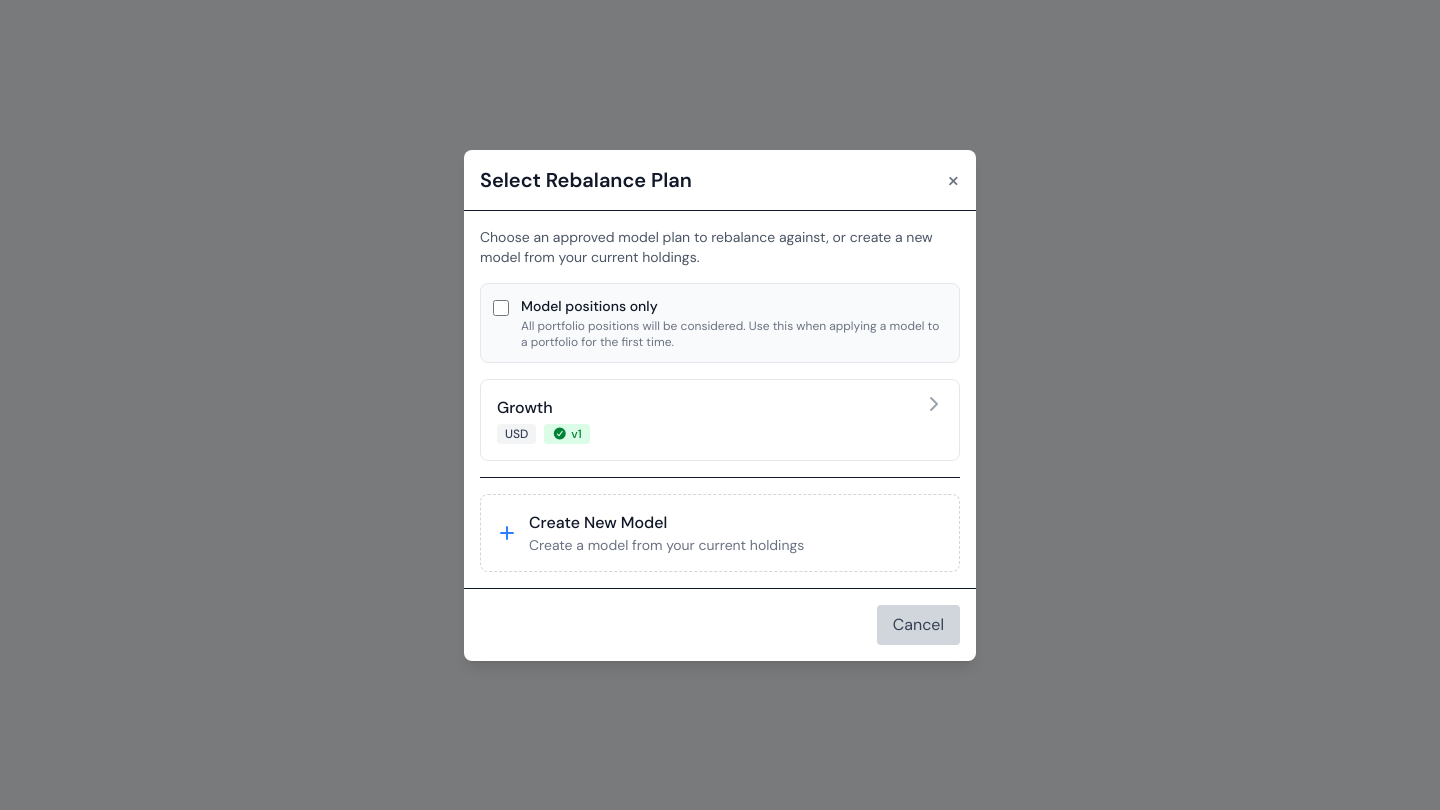
SelectPlanDialog — fetch failure surfacing (#1157) › shows a visible error when the approved-plan fetch responds not-ok, instead of silently doing nothing
Click the text "Growth": (525, 407) left=497, top=396, right=553, bottom=418
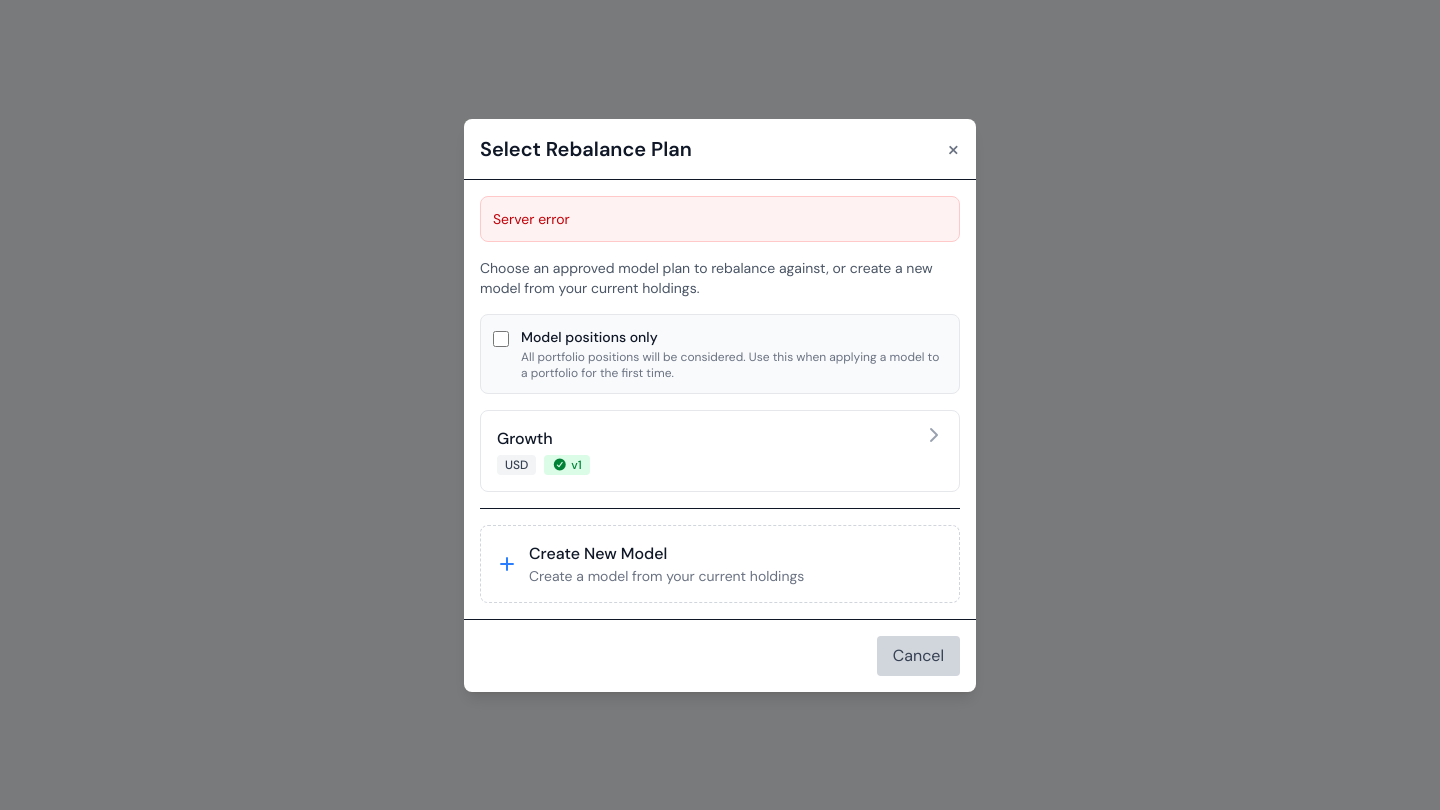
Check: the text "Server error" is shown, box left=480, top=196, right=960, bottom=242
